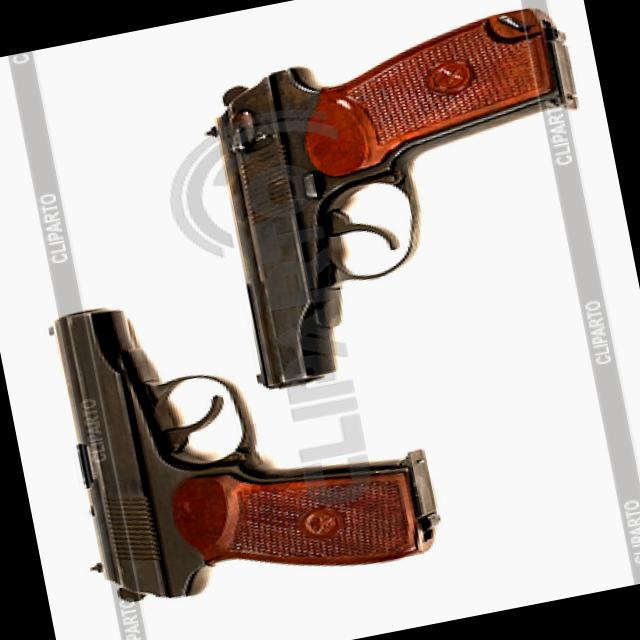handgun: (183, 4, 615, 387), (22, 250, 449, 620)
